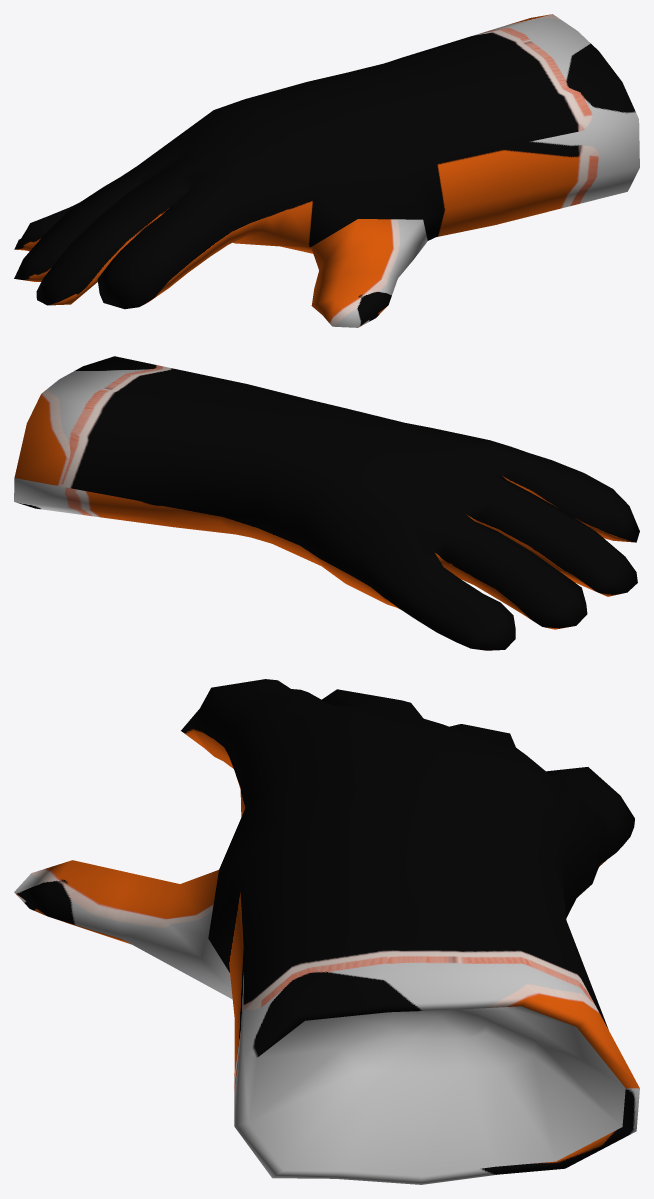
Rendered from Gloves_Metal.fbx.
The picture shows the model from 3 angles, top to bottom: view 1: azimuth 30°, elevation 25°; view 2: azimuth 150°, elevation 25°; view 3: azimuth 270°, elevation 25°; orthographic projection. The views are drawn at different scales.
Visible parts, largest first — view 1: GloveMetRight_DestrSUB; view 2: GloveMetRight_DestrSUB; view 3: GloveMetRight_DestrSUB.
Boxes of the visible parts, x1,y1,x2,y2 form: GloveMetRight_DestrSUB: (14,14,639,327); GloveMetRight_DestrSUB: (14,356,639,650); GloveMetRight_DestrSUB: (14,679,639,1184).
Size of the model in its own units: 0.3317 by 0.078 by 0.1991.
